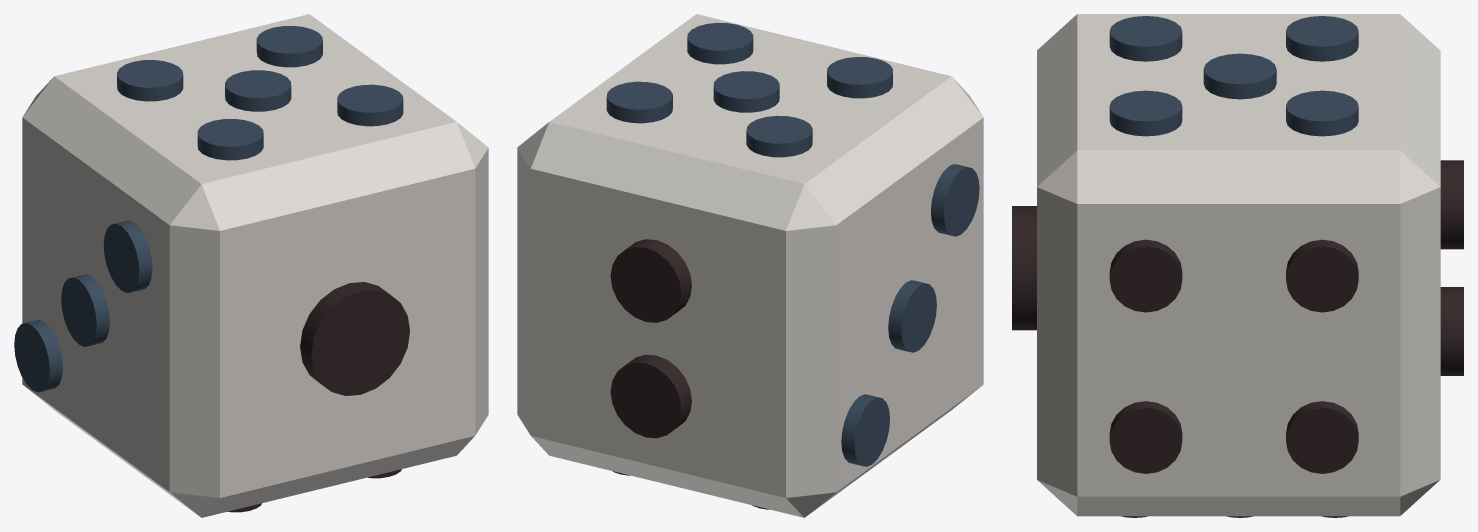
File: shaizi.fbx
3 renders of one model, left to right at view 1: azimuth 30°, elevation 25°; view 2: azimuth 150°, elevation 25°; view 3: azimuth 270°, elevation 25°, orthographic. The views are drawn at different scales.
Visible parts, largest first — view 1: pCube46, pCylinder27, pCylinder32, pCylinder30, pCylinder31, pCylinder42, pCylinder40, pCylinder41, pCylinder43, pCylinder38; view 2: pCube46, pCylinder28, pCylinder29, pCylinder30, pCylinder32, pCylinder31, pCylinder43, pCylinder40, pCylinder41, pCylinder42, pCylinder38; view 3: pCube46, pCylinder36, pCylinder35, pCylinder34, pCylinder33, pCylinder27, pCylinder38, pCylinder42, pCylinder43, pCylinder40, pCylinder41, pCylinder28 (+1 smaller).
Part boxes in pixels (x1,y1,x2,y2): pCube46: (22, 14, 488, 517); pCylinder27: (300, 282, 409, 395); pCylinder32: (14, 319, 62, 392); pCylinder30: (103, 220, 152, 292); pCylinder31: (61, 274, 109, 346); pCylinder42: (337, 84, 403, 126); pCylinder40: (117, 60, 183, 101); pCylinder41: (256, 26, 322, 67); pCylinder43: (225, 70, 291, 111); pCylinder38: (197, 119, 263, 160); pCube46: (517, 14, 983, 517); pCylinder28: (610, 239, 691, 322); pCylinder29: (610, 354, 691, 438); pCylinder30: (930, 164, 979, 236); pCylinder32: (841, 394, 889, 466); pCylinder31: (888, 280, 936, 352); pCylinder43: (713, 71, 779, 112); pCylinder40: (746, 115, 812, 157); pCylinder41: (606, 81, 672, 123); pCylinder42: (687, 22, 753, 64); pCylinder38: (827, 57, 892, 98); pCube46: (1037, 14, 1440, 516); pCylinder36: (1109, 239, 1182, 312); pCylinder35: (1109, 401, 1182, 473); pCylinder34: (1286, 401, 1358, 473); pCylinder33: (1286, 239, 1358, 312); pCylinder27: (1012, 206, 1036, 330); pCylinder38: (1109, 16, 1182, 61); pCylinder42: (1109, 90, 1182, 136); pCylinder43: (1203, 53, 1276, 99); pCylinder40: (1286, 16, 1358, 61); pCylinder41: (1286, 90, 1358, 136); pCylinder28: (1440, 160, 1463, 249).
Bounding box in the file's own units: 4.84 × 4.89 × 5.01.
